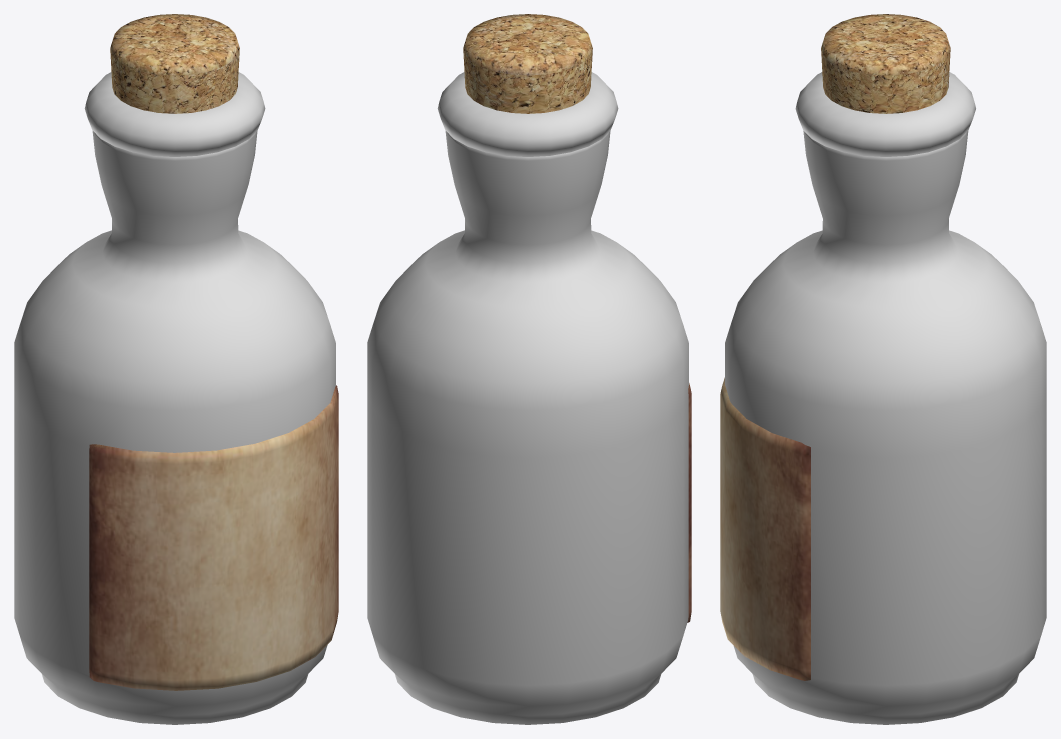
The model's file is Bottle2.fbx.
3 views of the same model, side by side, from view 1: azimuth 30°, elevation 25°; view 2: azimuth 150°, elevation 25°; view 3: azimuth 270°, elevation 25° (orthographic).
Parts seen in each view (by area): view 1: Bottle_LOD0, Cork; view 2: Bottle_LOD0, Cork; view 3: Bottle_LOD0, Cork.
Part boxes in pixels (x1,y1,x2,y2): Bottle_LOD0: (14,72,338,724); Cork: (110,14,239,113); Bottle_LOD0: (367,72,691,724); Cork: (463,14,592,113); Bottle_LOD0: (720,72,1046,724); Cork: (821,14,950,113).
Size of what is drawn, in the model's own units: 24.77 by 53.64 by 25.14.
